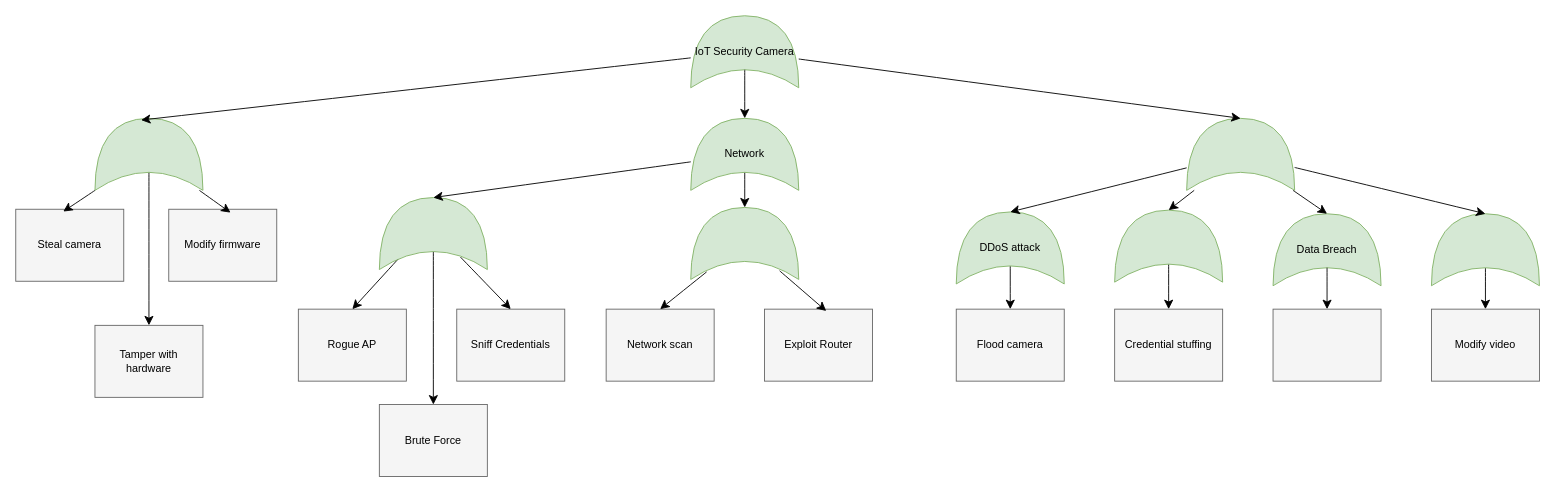
This 1555x492 diagram has some shape labels left out. Each missing label, with the centre of its shape:
Access Recordings: point (1326, 344)
Cloud: point (1240, 153)
Cloud Account: point (1168, 245)
Local Networks: point (744, 243)
Man-in-the-Middle: point (1485, 249)
Physical: point (148, 153)
Wi-Fi Attacks: point (432, 233)
